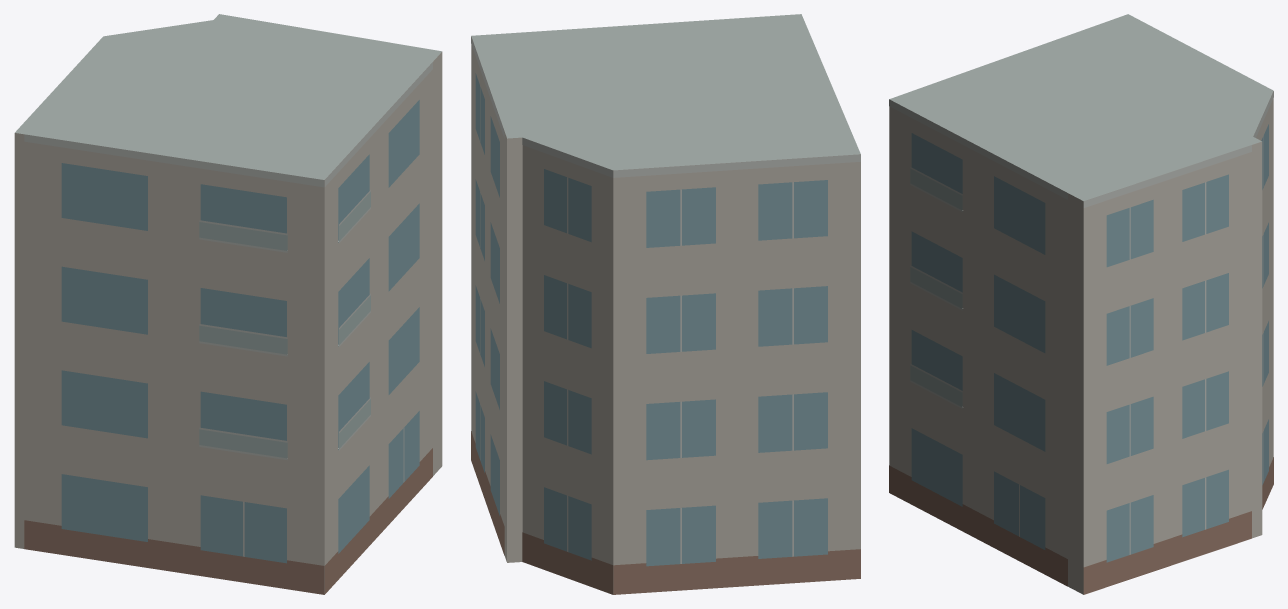
The model's file is survey-upis-32708019.glb.
3 renders of one model, left to right at view 1: azimuth 30°, elevation 25°; view 2: azimuth 150°, elevation 25°; view 3: azimuth 270°, elevation 25°, orthographic. The views are drawn at different scales.
Visible parts, largest first — view 1: survey-upis-32708019.tmp; view 2: survey-upis-32708019.tmp; view 3: survey-upis-32708019.tmp.
Part boxes in pixels (x1=…): survey-upis-32708019.tmp: x1=14, y1=14, x2=442, y2=594; survey-upis-32708019.tmp: x1=471, y1=14, x2=860, y2=594; survey-upis-32708019.tmp: x1=889, y1=14, x2=1273, y2=594.
Bounding box in the file's own units: 14.09 × 13.8 × 12.23.
